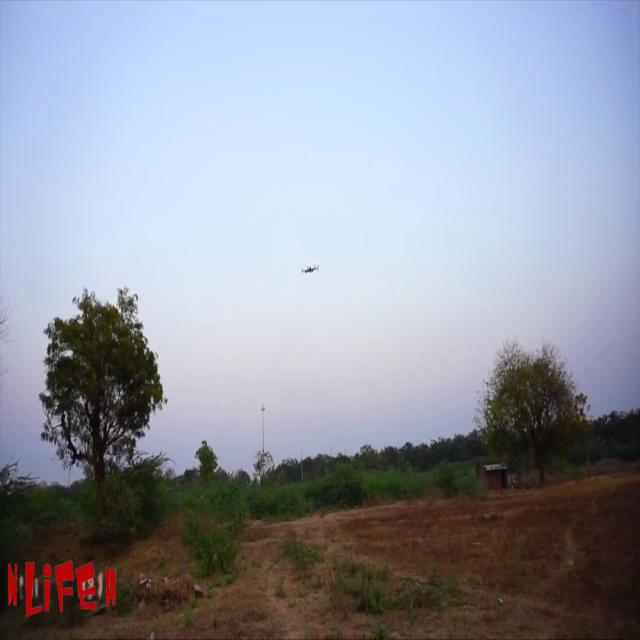drone: (299, 253, 321, 288)
